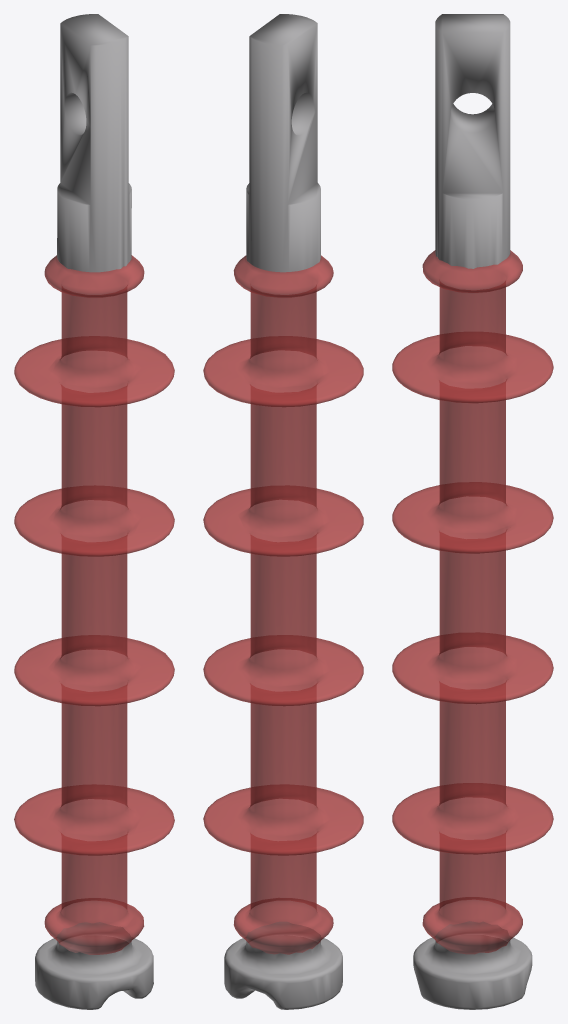
Rendered from 复合横担绝缘子-1.obj.
The picture shows the model from 3 angles, left to right: view 1: azimuth 30°, elevation 25°; view 2: azimuth 150°, elevation 25°; view 3: azimuth 270°, elevation 25°; orthographic projection.
Parts seen in each view (by area): view 1: 复合横担绝缘子-1; view 2: 复合横担绝缘子-1; view 3: 复合横担绝缘子-1.
Part boxes in pixels (bbox=[...]): 复合横担绝缘子-1: bbox=[14, 14, 174, 1009]; 复合横担绝缘子-1: bbox=[203, 14, 363, 1009]; 复合横担绝缘子-1: bbox=[392, 14, 553, 1009].
Size of the model in its own units: 7.3 by 48 by 7.3.
